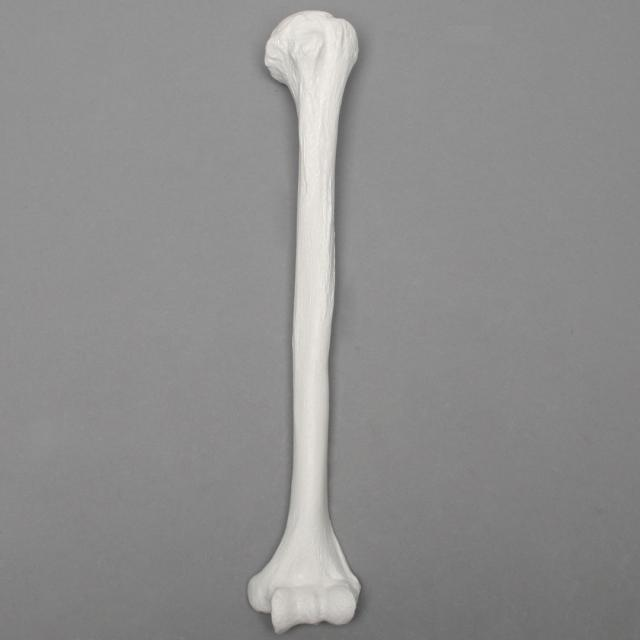bone: (243, 7, 369, 634)
